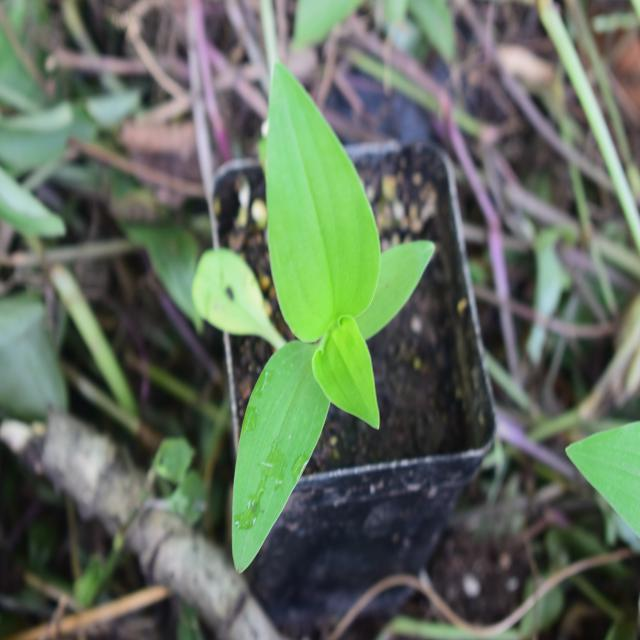Common Dayflower: (210, 66, 411, 550)
